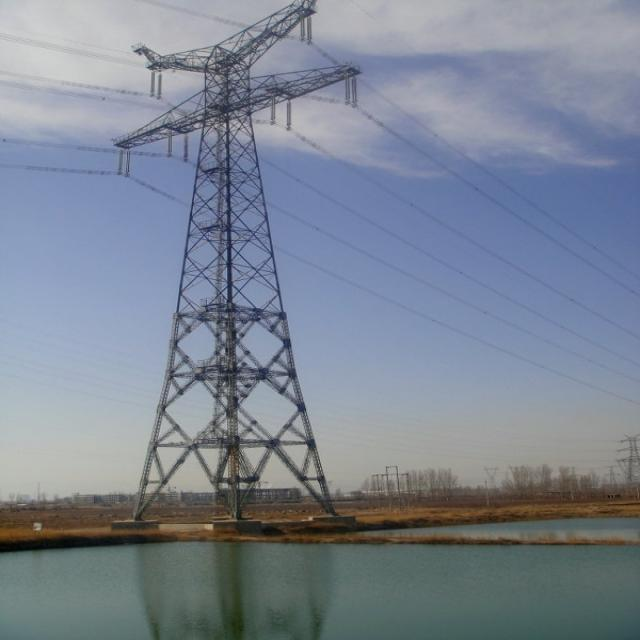non-critical vegetation: (82, 3, 363, 527)
